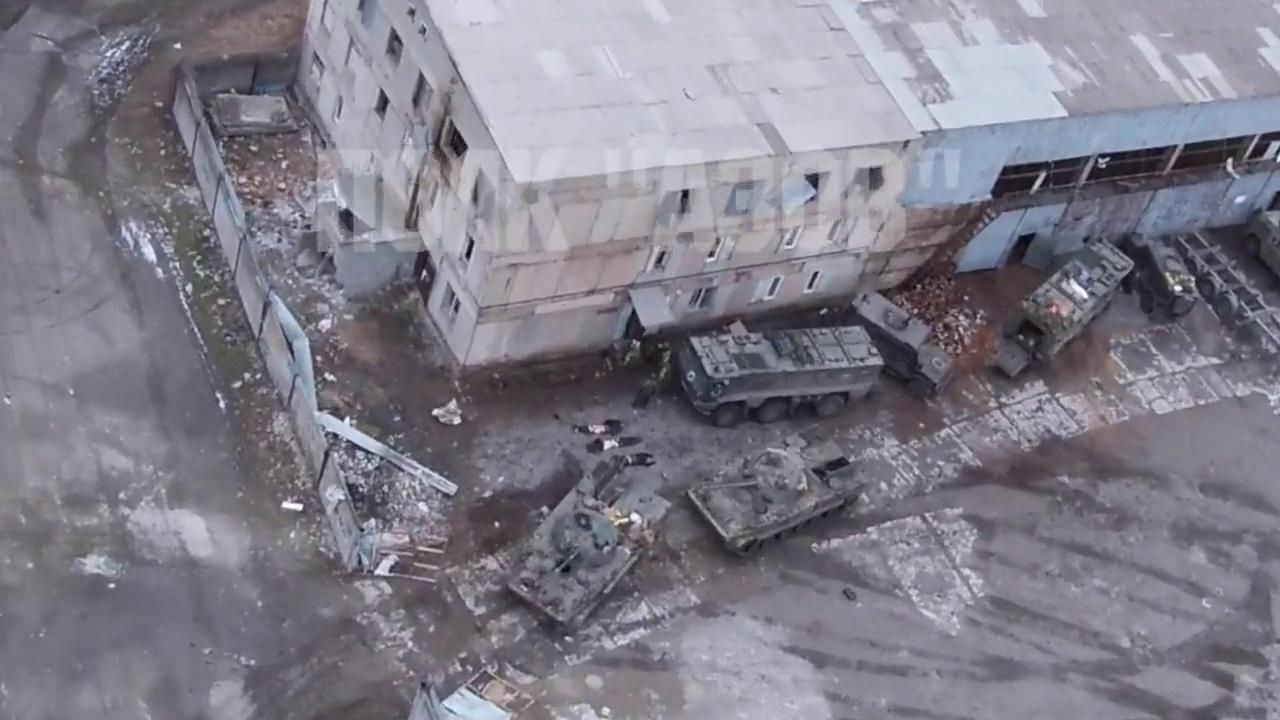armored_car: (846, 288, 956, 400), (1128, 237, 1200, 322), (1238, 201, 1280, 288)
person: (586, 436, 642, 454), (574, 418, 625, 436), (608, 453, 656, 472)
tank: (502, 460, 674, 630), (686, 421, 869, 557)
truck: (678, 323, 884, 428), (998, 236, 1136, 372)
